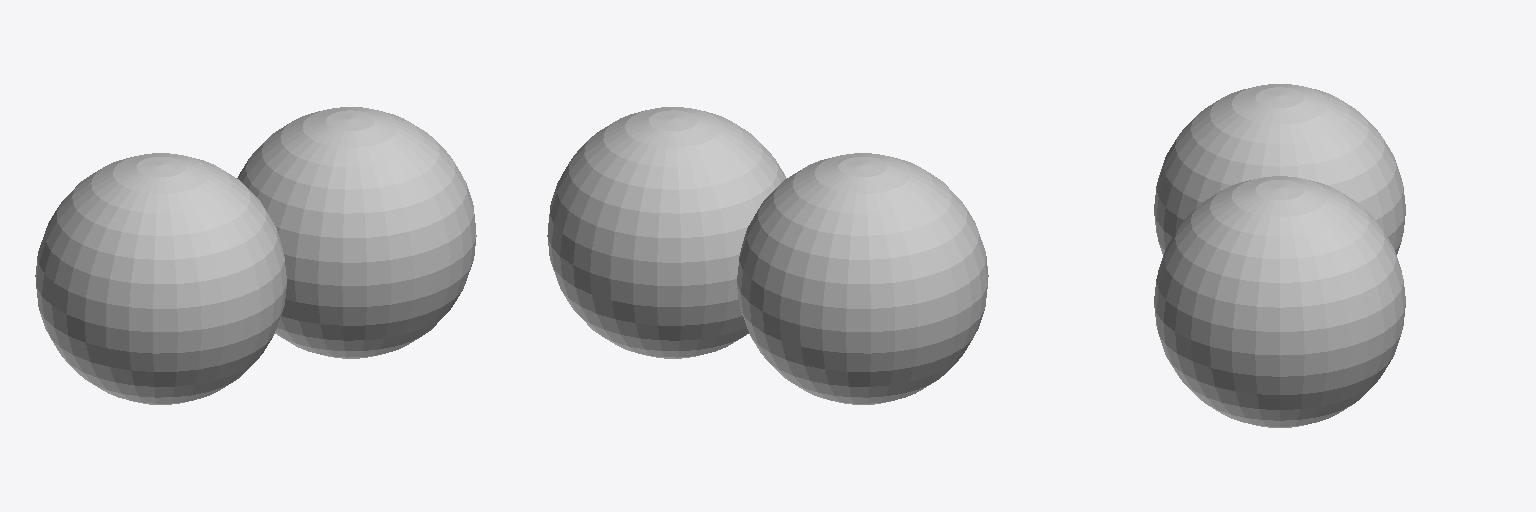
File: beforeCompleteCollision2.obj
The picture shows the model from 3 angles: view 1: azimuth 30°, elevation 25°; view 2: azimuth 150°, elevation 25°; view 3: azimuth 270°, elevation 25°; orthographic projection.
Visible parts, largest first — view 1: Sphere.001_Sphere.003; view 2: Sphere.001_Sphere.003; view 3: Sphere.001_Sphere.003.
Boxes of the visible parts, box(x1,y1,x2,y2) form: Sphere.001_Sphere.003: box(35, 107, 476, 404); Sphere.001_Sphere.003: box(547, 107, 988, 404); Sphere.001_Sphere.003: box(1154, 84, 1405, 427).
Size of the model in its own units: 3.73 by 2 by 2.